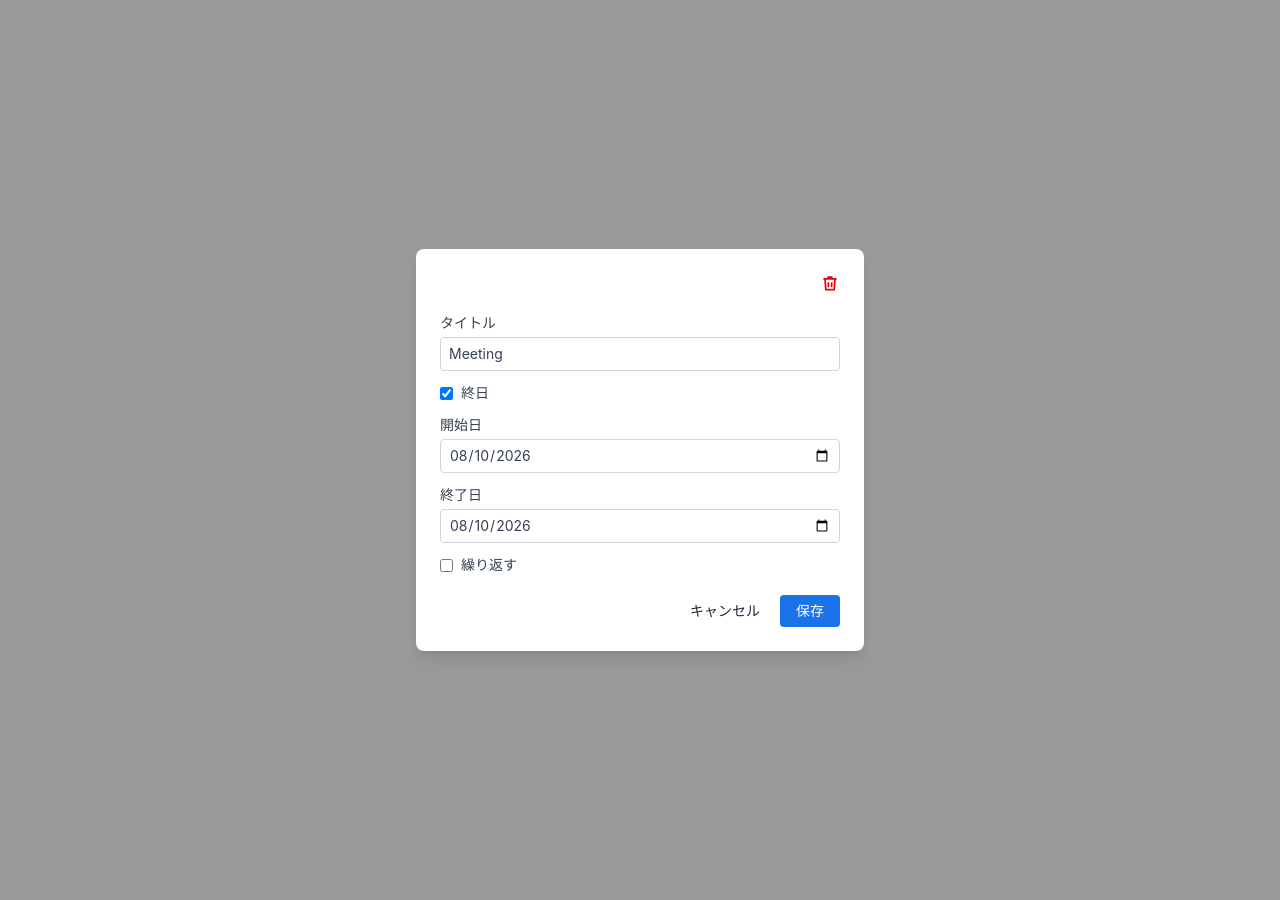
Test: shows a delete confirmation only for an existing event and cancels without a request
Click the button named "予定を削除". click: (830, 283)
box: left=812, top=265, right=848, bottom=301
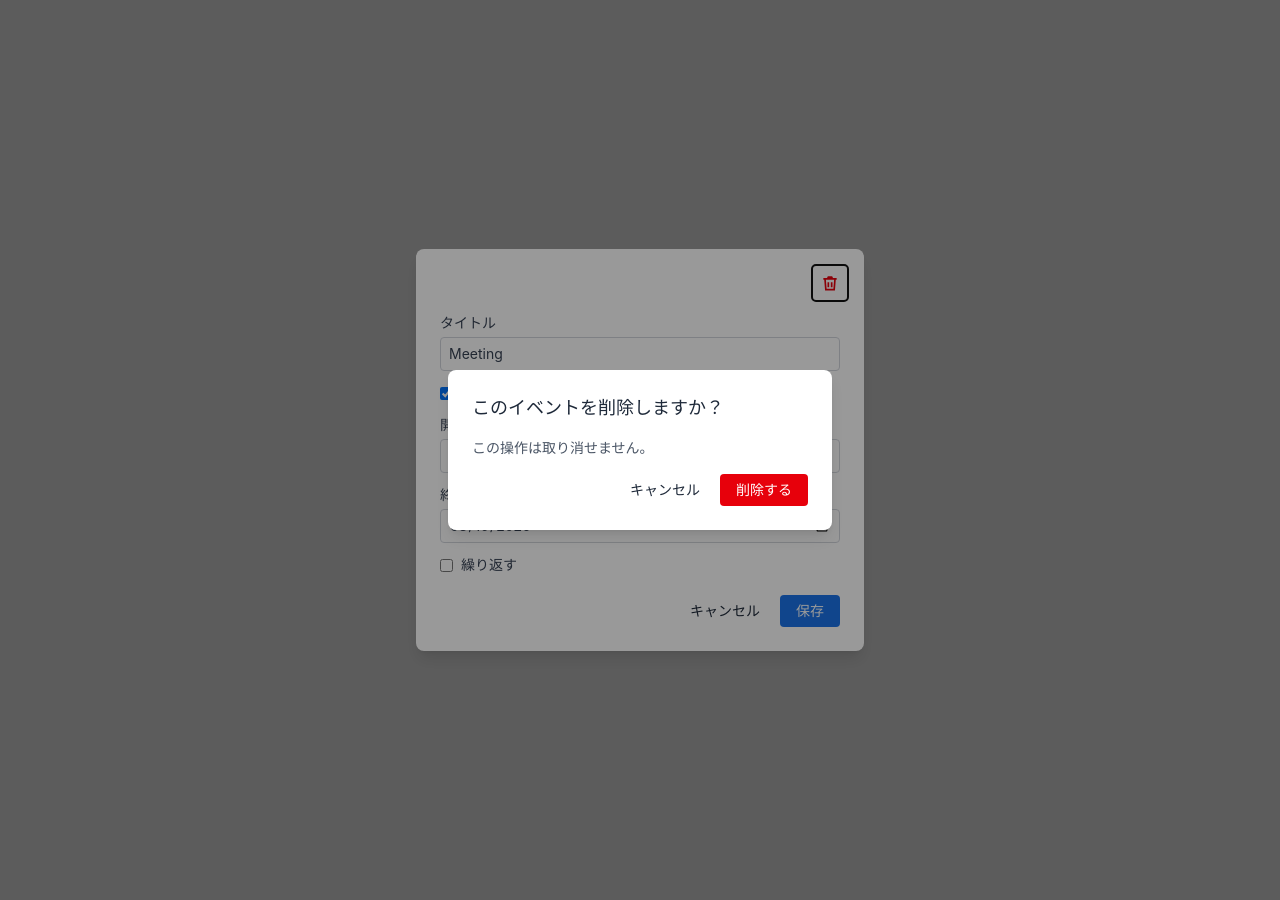
expect the dialog "このイベントを削除しますか？ この操作は取り消せません。 キャンセル 削除する" is shown: met, box left=448, top=370, right=832, bottom=530
Click the button "キャンセル". click: (665, 490)
box: left=618, top=474, right=712, bottom=506
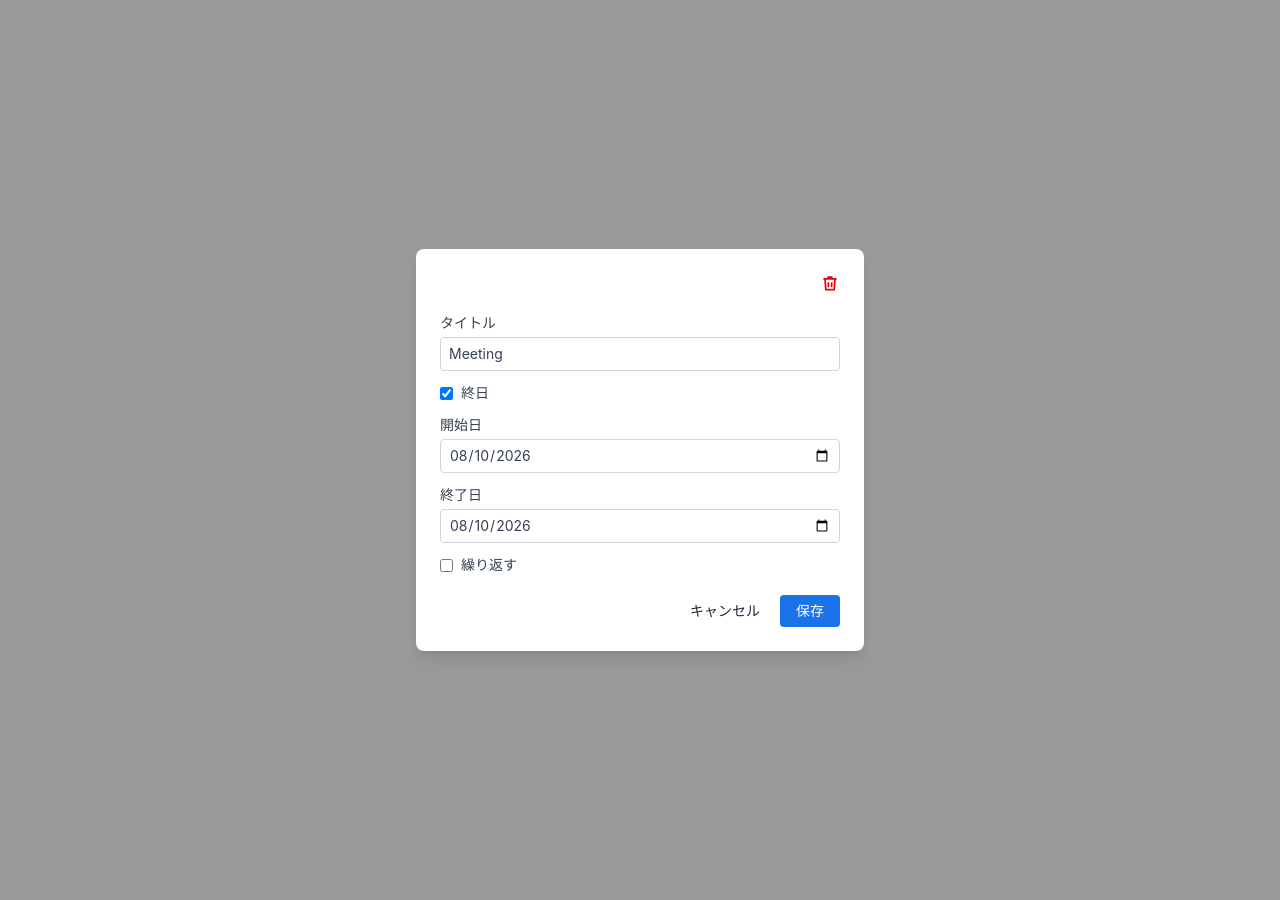
expect the dialog "このイベントを削除しますか？ この操作は取り消せません。 キャンセル 削除する" is gone: met
